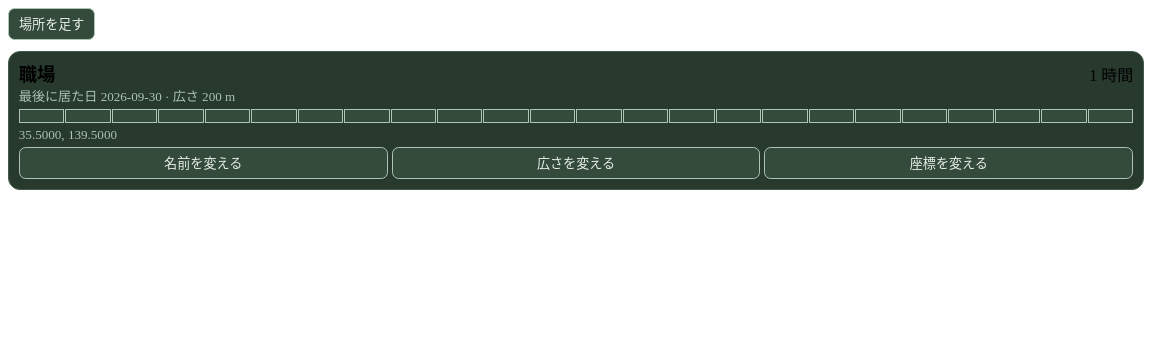
Test: places-change: 名前を変える › 届かなかったときは入力が残って届かなかったと出る。押し直しは同じ原文
Click the button "名前を変える" at (203, 163), box [19,147,388,179]
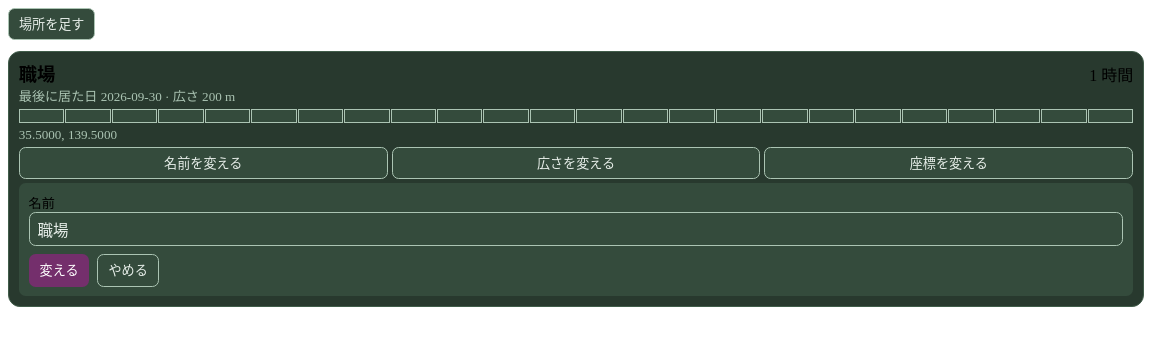
Replace the text in the field labelled "名前" with "本社" at (576, 229), box [29,212,1123,246]
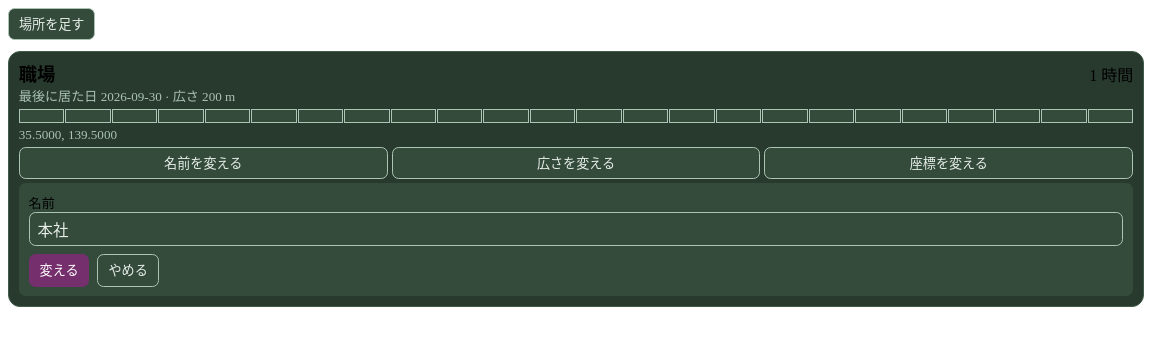
Click the button "変える" at (59, 270), box [29,254,90,287]
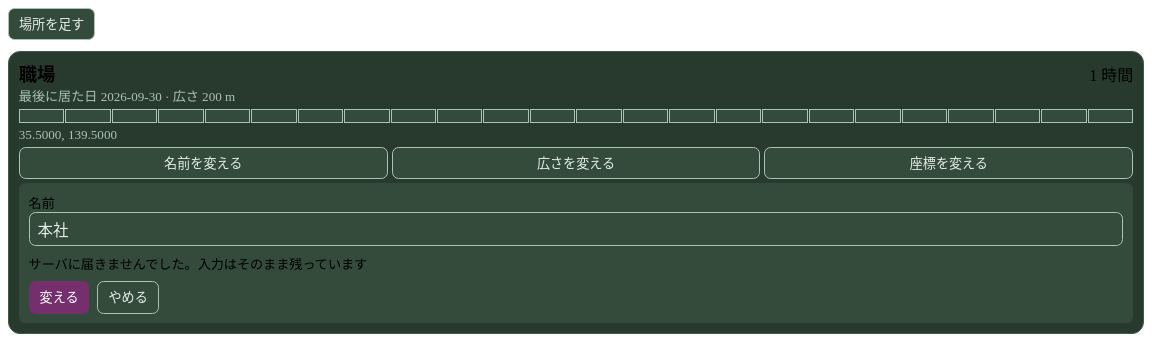
Check: the message with test id "place-problem" reads "サーバに届きませんでした。入力はそのまま残っています", box [29,257,367,272]
Click the button "変える" at (59, 297), box [29,281,90,314]
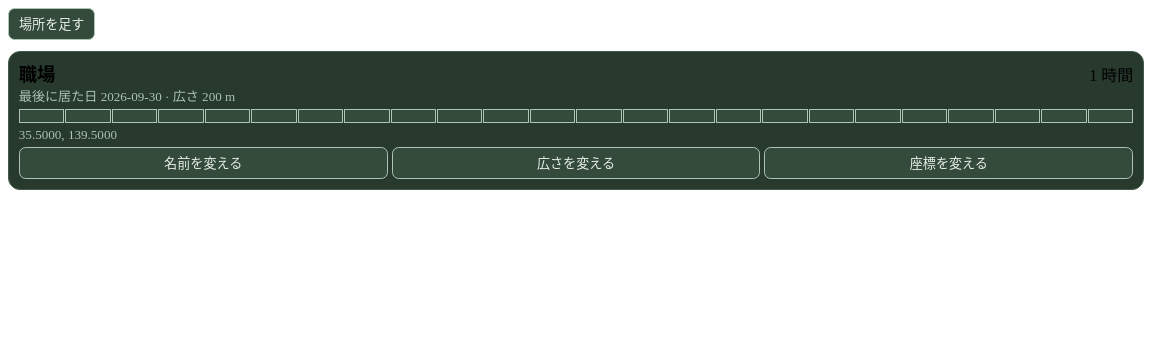
Check: the element with test id "place-change-form" is gone
